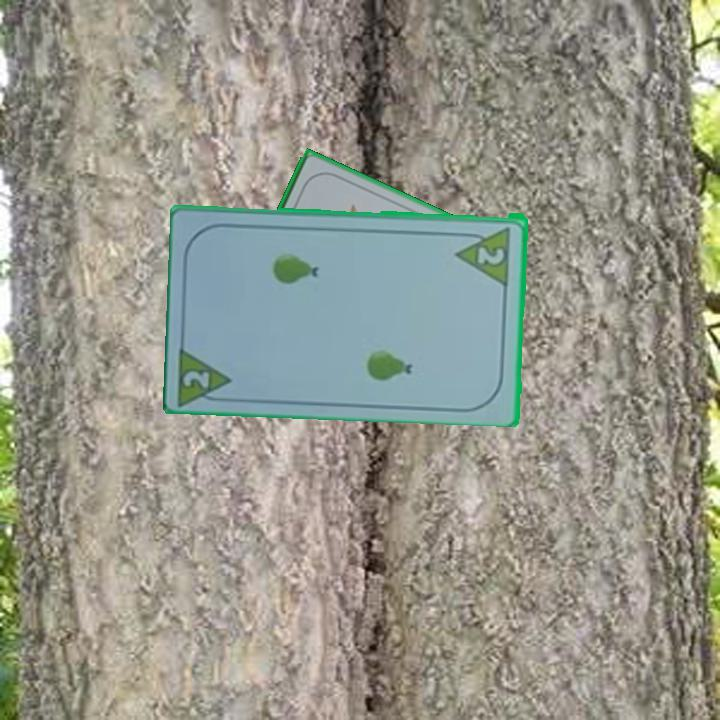2p: (176, 340, 237, 406), (453, 223, 514, 286)
